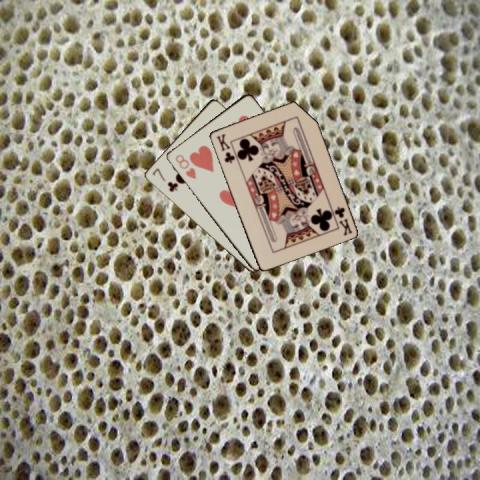7c: (149, 166, 179, 194)
8h: (172, 151, 197, 181)
Kc: (213, 131, 236, 164), (331, 203, 353, 237)
